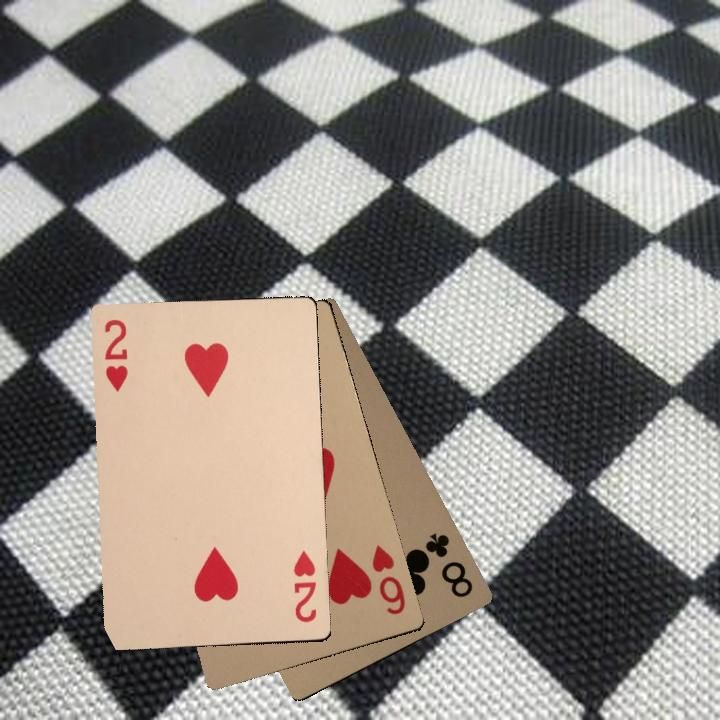2h: (100, 315, 131, 395), (289, 548, 319, 625)
6h: (367, 543, 408, 617)
8c: (420, 528, 476, 600)
